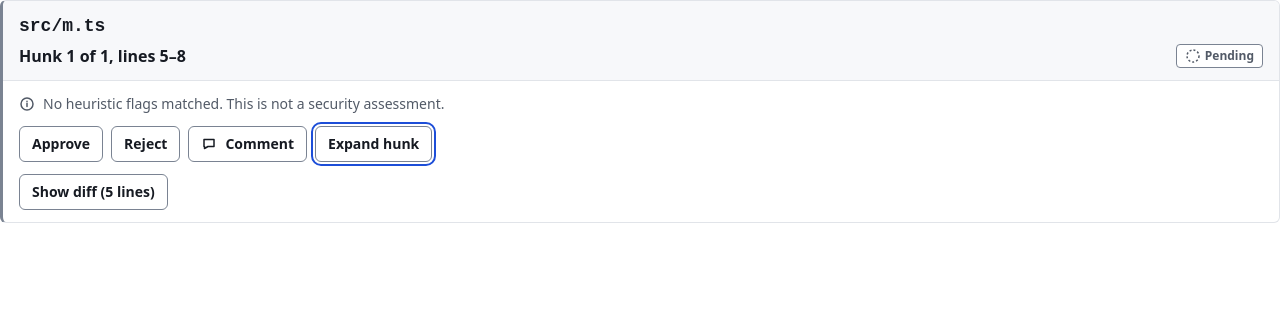
HUNK-FOLD a folded diff opens behind Show diff › HUNK-SHOW-DIFF-KEY does not steal focus when the toolbar toggle opens the table
Click the button "Expand hunk" at (374, 144), box [315,126,432,162]
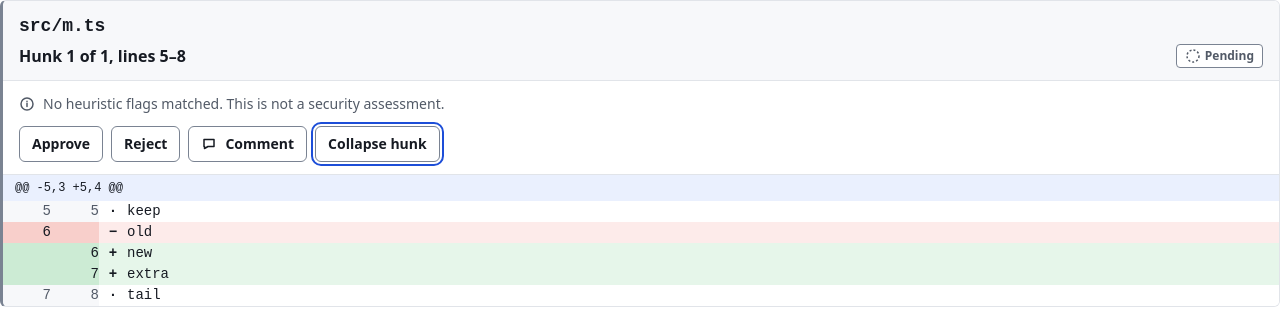
Expected: the table is shown, [3,174,1279,306]
